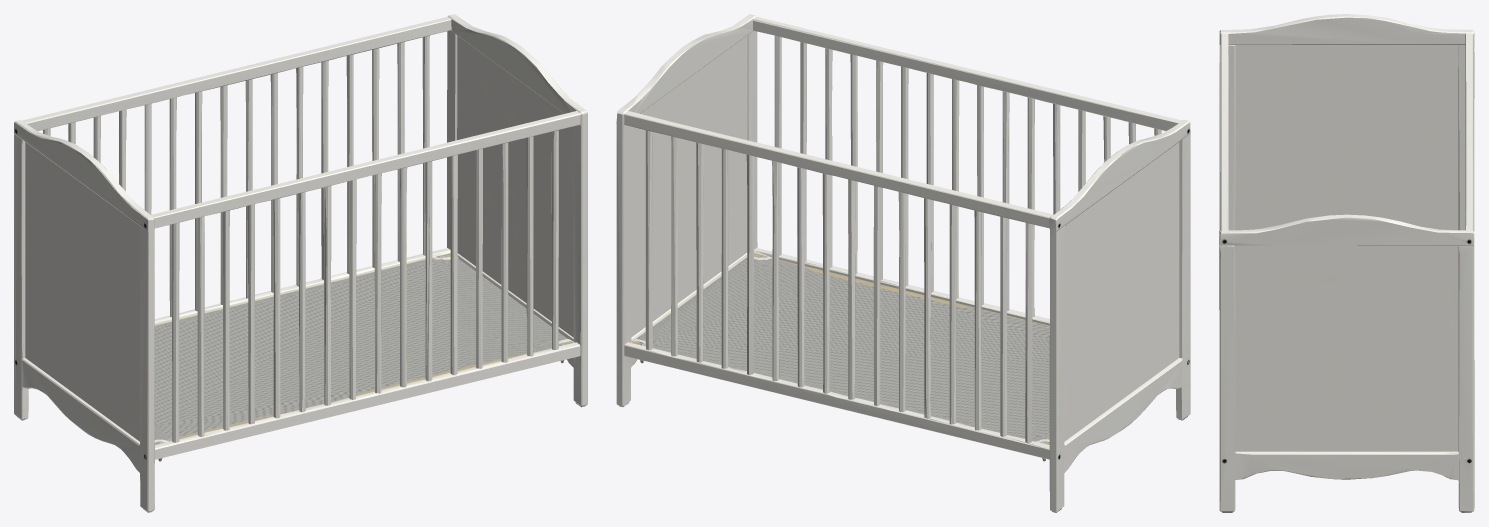
3 views of the same model, side by side, from view 1: azimuth 30°, elevation 25°; view 2: azimuth 150°, elevation 25°; view 3: azimuth 270°, elevation 25° (orthographic). The views are drawn at different scales.
Parts seen in each view (by area): view 1: ProcessedMeshNode; view 2: ProcessedMeshNode; view 3: ProcessedMeshNode.
Part boxes in pixels (box(x1,y1,x2,y2)): ProcessedMeshNode: box(14, 14, 587, 512); ProcessedMeshNode: box(616, 14, 1190, 512); ProcessedMeshNode: box(1219, 14, 1474, 512).
Bounding box in the file's own units: 1.24 × 0.8371 × 0.6532.
2 materials, 2 textured.
